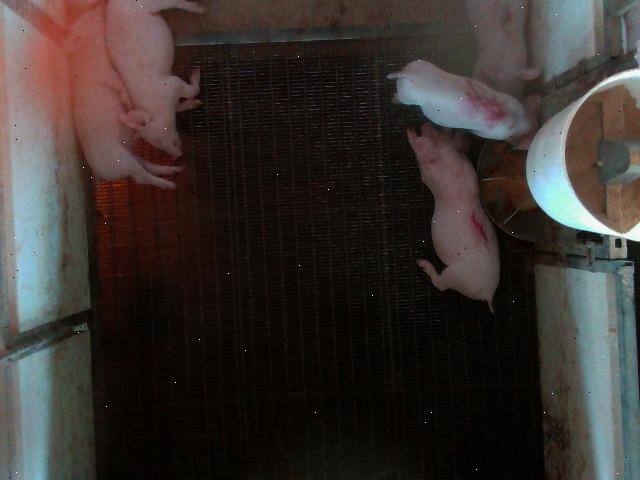pig-1: (408, 124, 500, 312)
pig-3: (466, 2, 541, 99)
pig-5: (389, 60, 541, 149)
